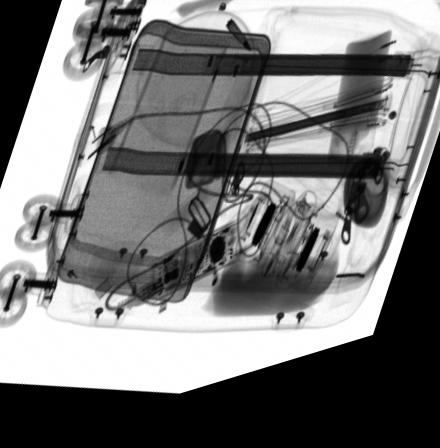Bullet: (225, 31, 252, 65)
